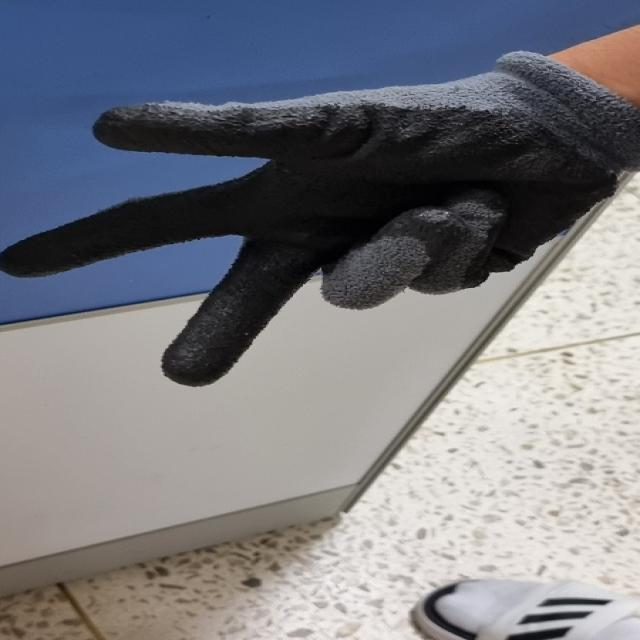Gloves: (0, 47, 640, 390)
